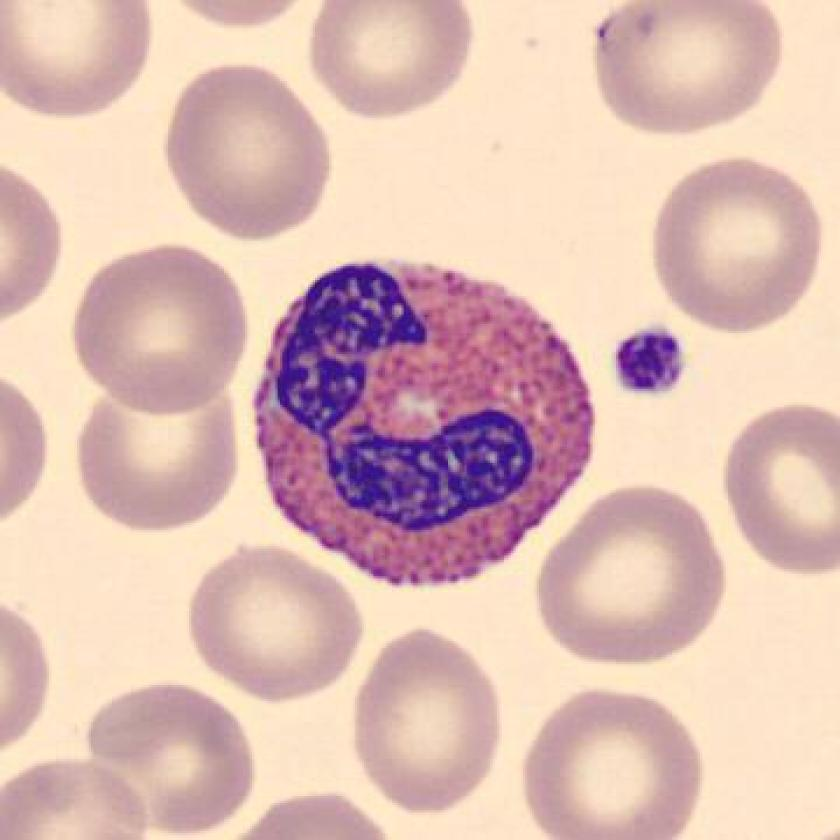eosinophil: (239, 244, 608, 603)
